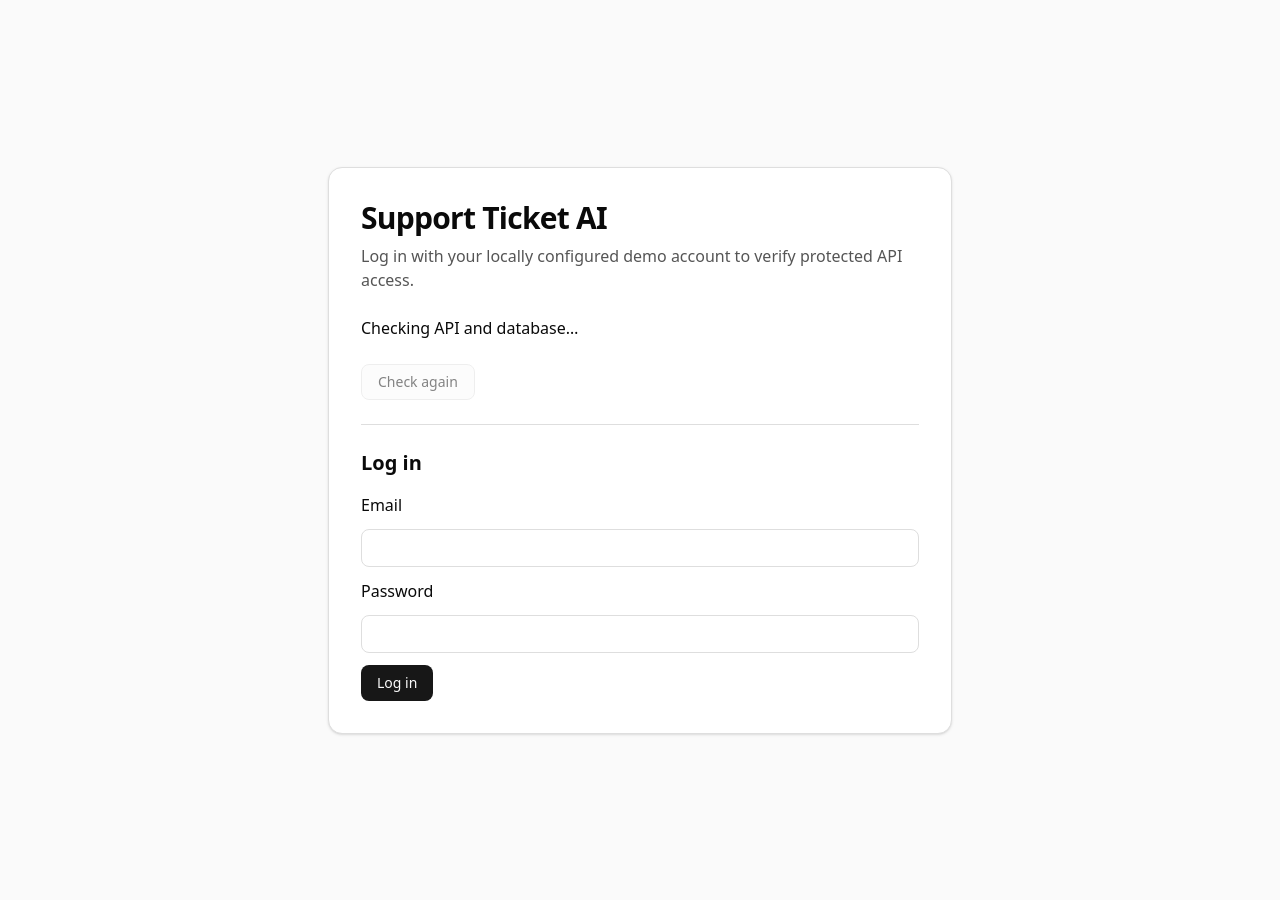
chat-first support › creates through SSE and shows persisted answer and tool summary
Type "demo@example.test" into the field labelled "Email" at point(640, 548), box [361,528,919,566]
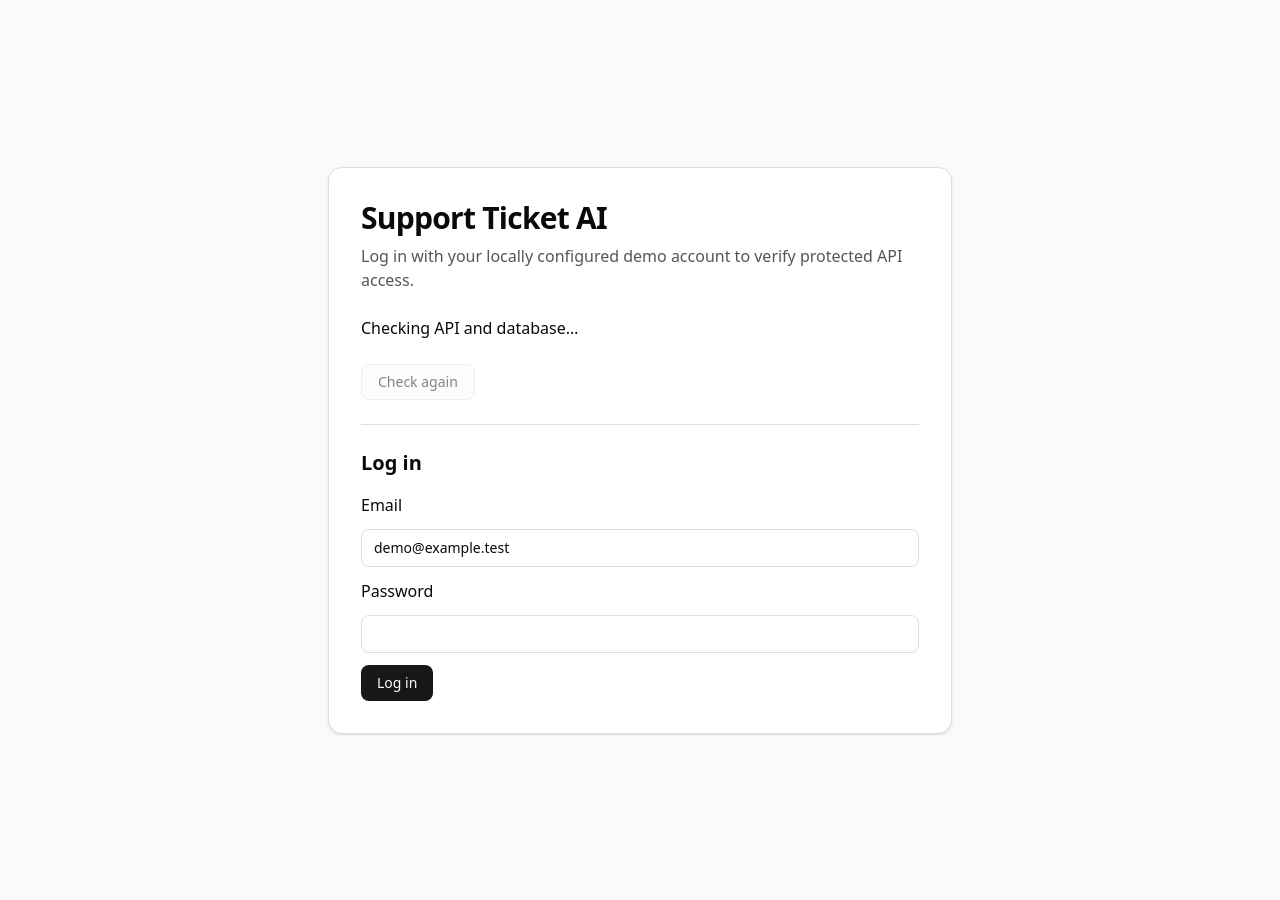
Type "synthetic-password" into the password field labelled "Password" at point(640, 634), box [361,614,919,652]
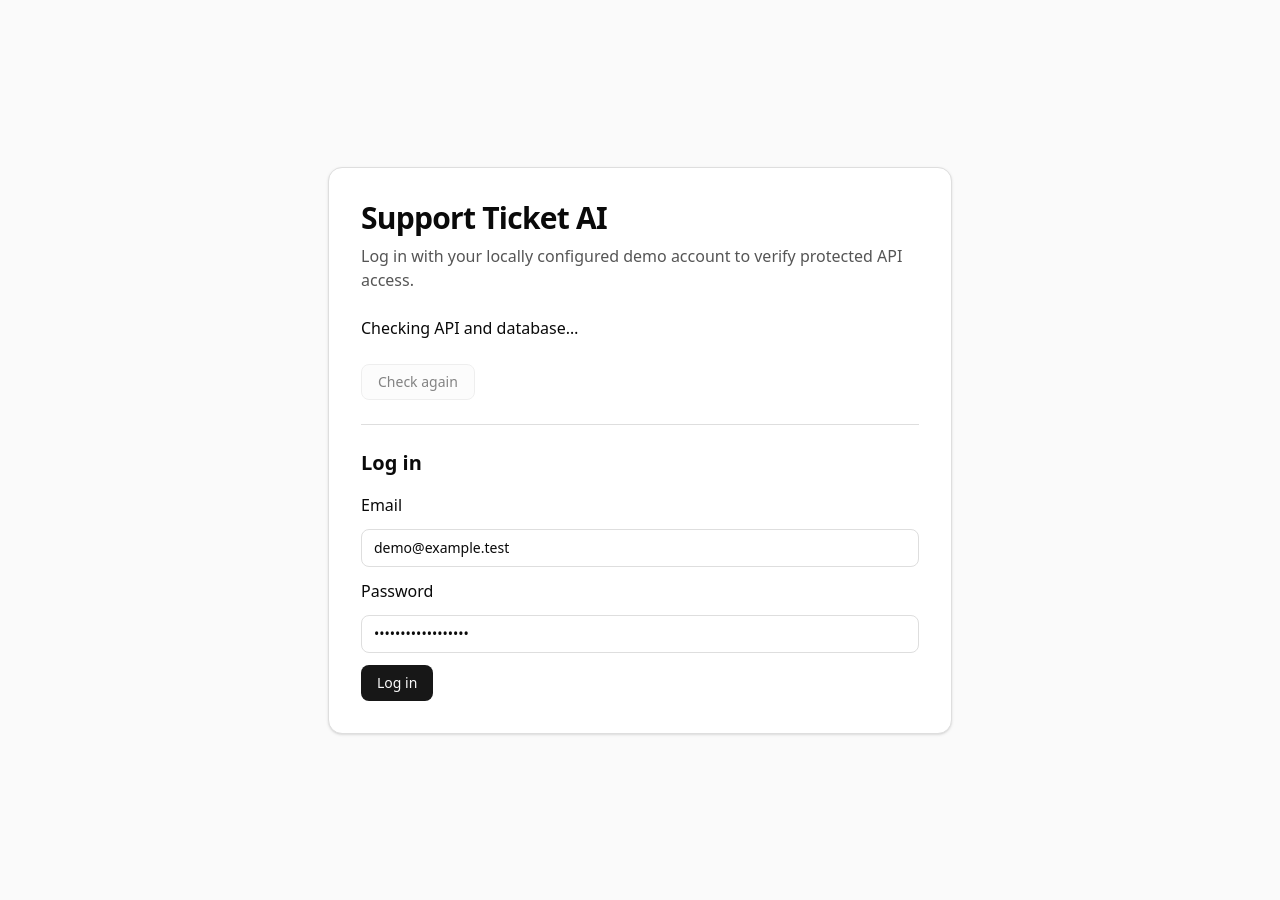
Click the button "Log in" at point(397, 682), box [361,664,433,700]
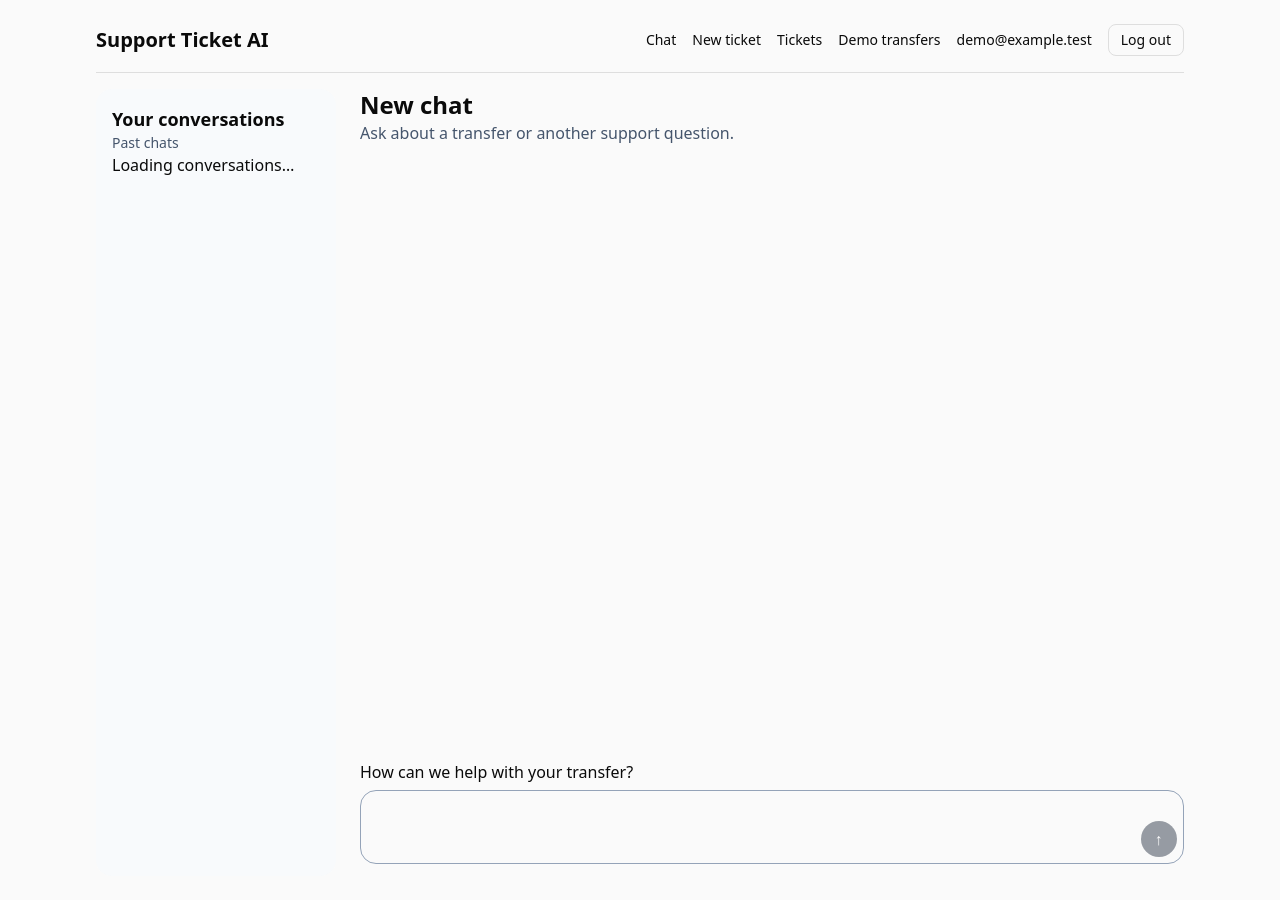
Result: the text "demo@example.test" is shown at [957,30,1092,50]
Type "Where is my transfer?" into the text box labelled "How can we help with your transfer?" at point(750, 827), box [367,797,1133,857]
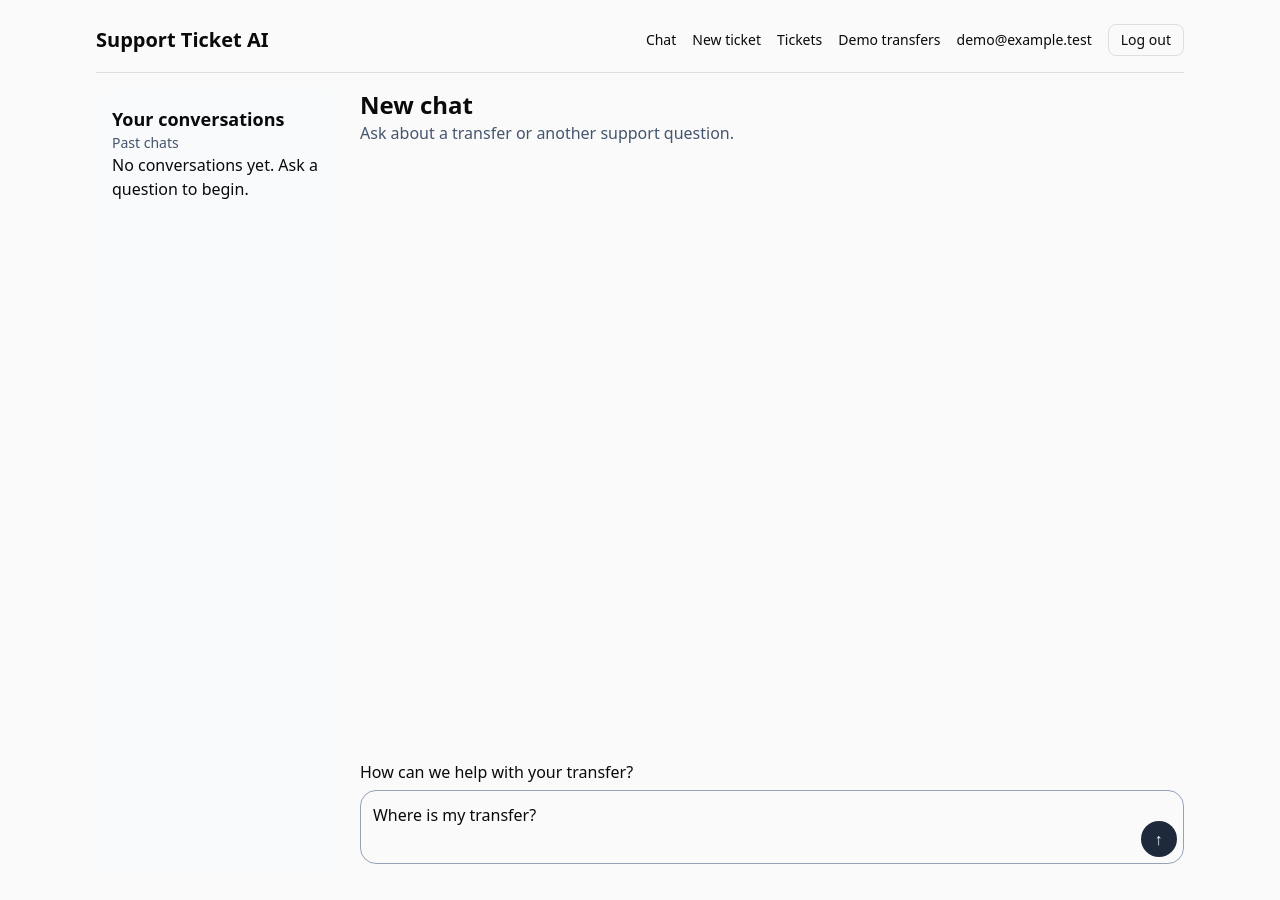
Click the button named "Send message" at point(1159, 839), box [1141,821,1177,857]
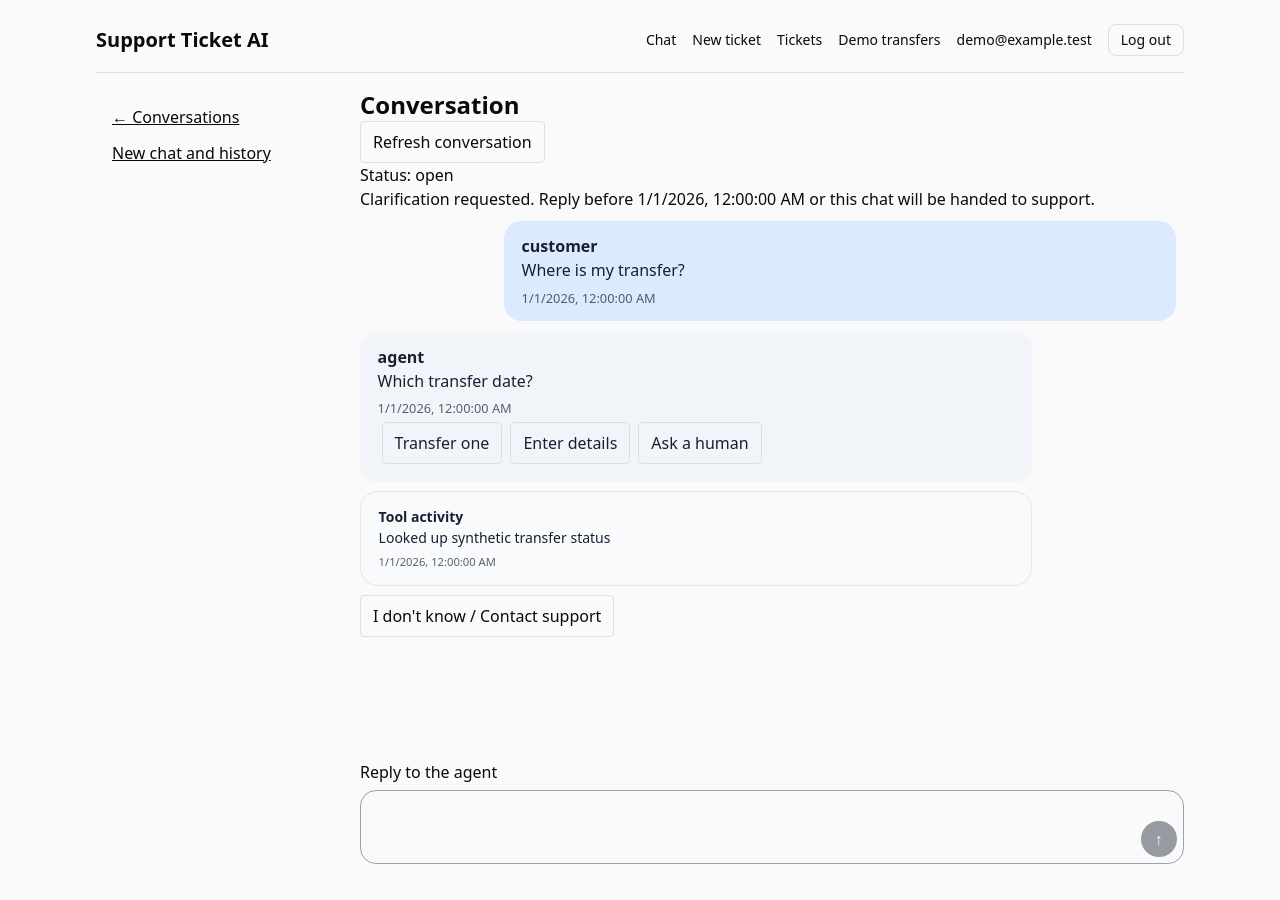
Result: the text "Which transfer date?" is shown at [378,370,533,392]
Result: the text "Looked up synthetic transfer status" is shown at [379,528,610,547]
